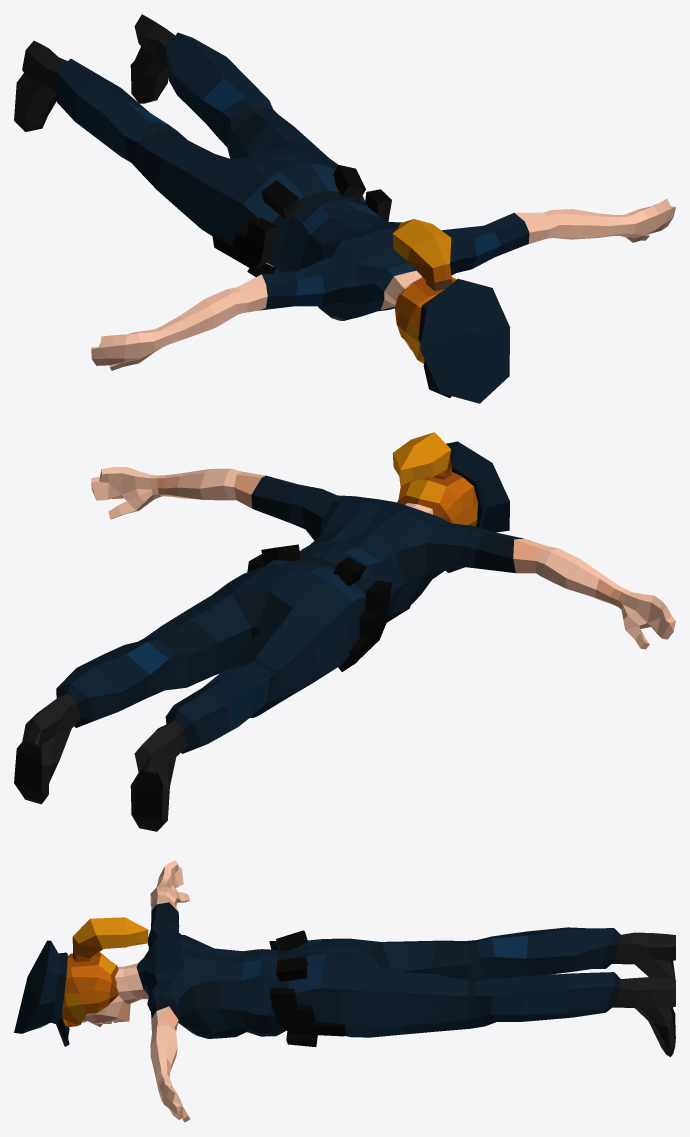
Rendered from police.fbx.
The picture shows the model from 3 angles, top to bottom: view 1: azimuth 30°, elevation 25°; view 2: azimuth 150°, elevation 25°; view 3: azimuth 270°, elevation 25°; orthographic projection. The views are drawn at different scales.
Parts seen in each view (by area): view 1: lpFemale_casual_C; view 2: lpFemale_casual_C; view 3: lpFemale_casual_C.
Part boxes in pixels (bbox=[...]): lpFemale_casual_C: bbox=[14, 14, 675, 403]; lpFemale_casual_C: bbox=[14, 432, 675, 831]; lpFemale_casual_C: bbox=[14, 860, 675, 1122].
Size of the model in its own units: 169 by 42.41 by 197.
1 material, 1 textured.
